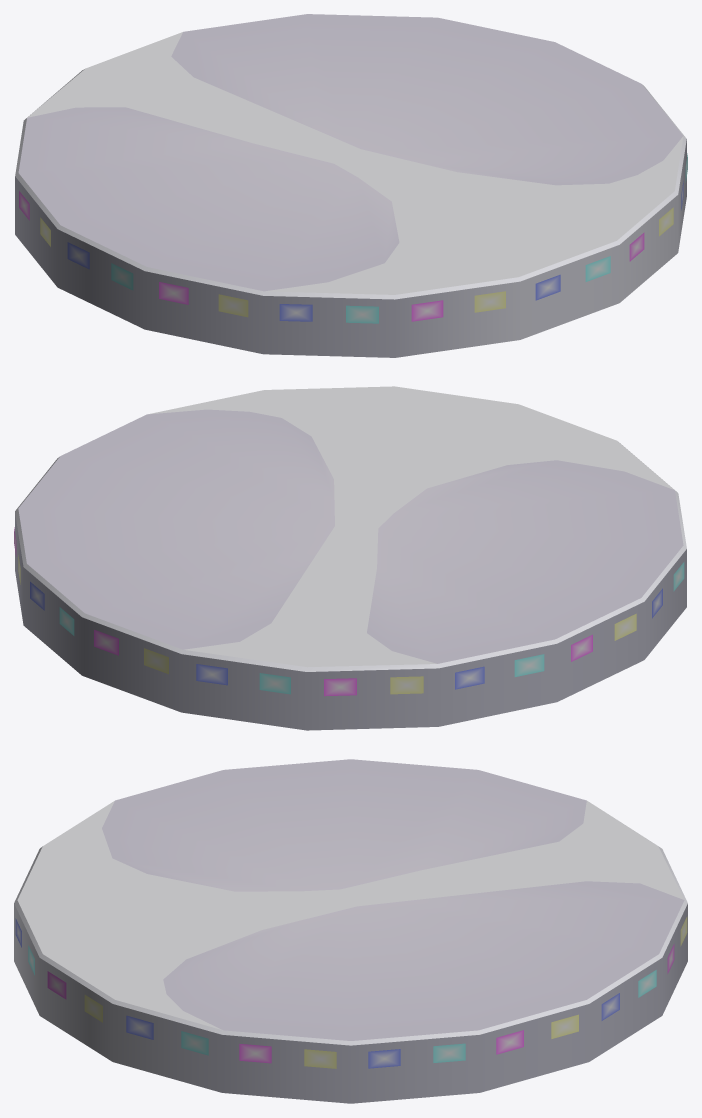
File: DJStageBase.glb
3 renders of one model, top to bottom at view 1: azimuth 30°, elevation 25°; view 2: azimuth 150°, elevation 25°; view 3: azimuth 270°, elevation 25°, orthographic.
Visible parts, largest first — view 1: DJStageBase; view 2: DJStageBase; view 3: DJStageBase.
Part boxes in pixels (box(x1,y1,x2,y2)): DJStageBase: box(15, 14, 687, 357); DJStageBase: box(14, 386, 686, 730); DJStageBase: box(14, 759, 687, 1103).
Bounding box in the file's own units: 3.54 × 0.3542 × 3.54.
